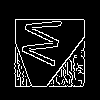W: (20, 14, 71, 69)
